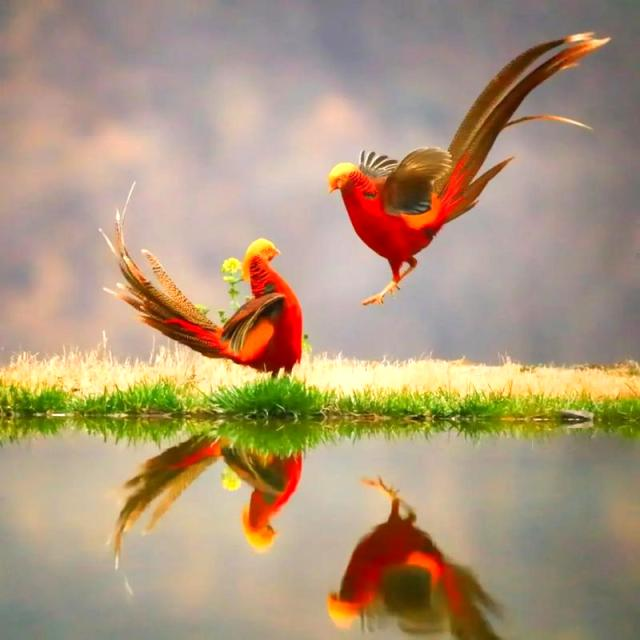Chrysolophus pictus feather: (439, 32, 612, 225), (99, 181, 218, 349)
